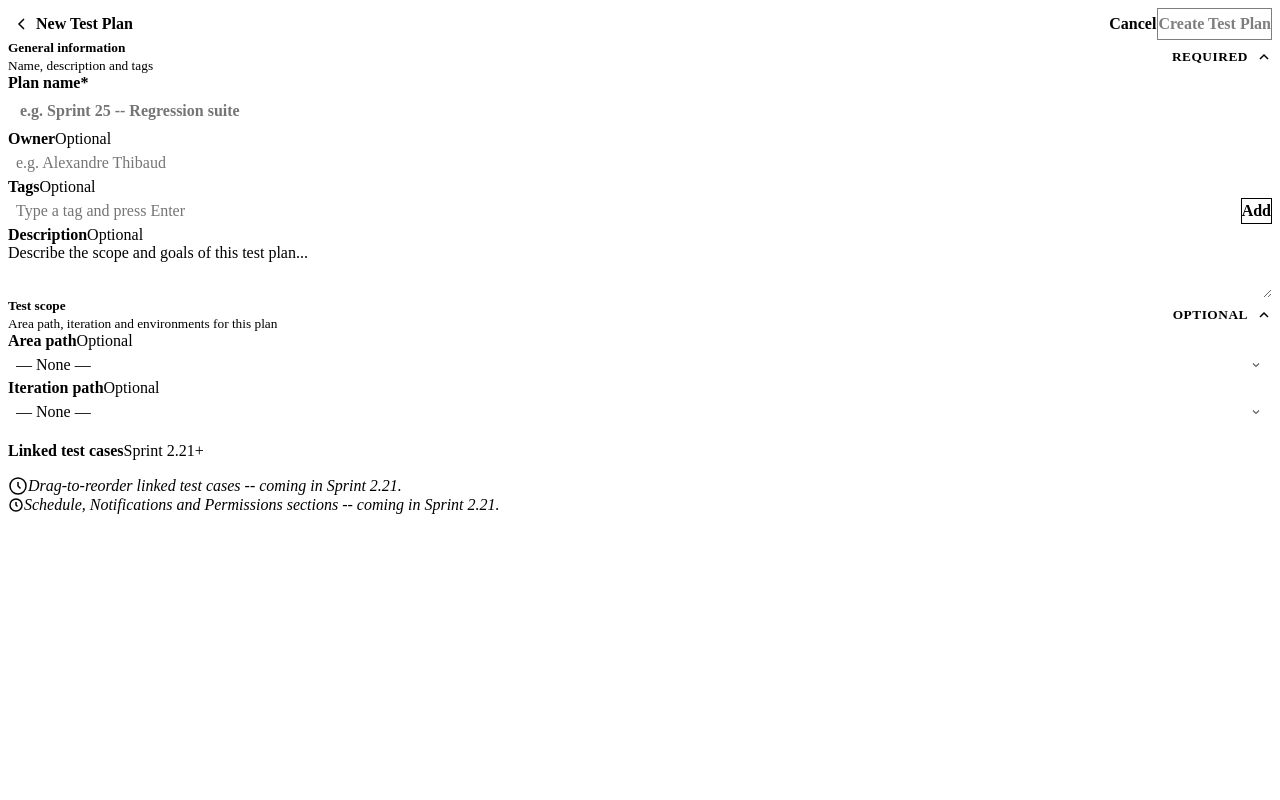
Test: TestPlanFormView (Sprint 2.18) › shows error toast on failed creation
Type "Fail Plan" into the field labelled "Plan name *".
click(640, 111); type("Fail Plan")  # box [8,92,1272,130]
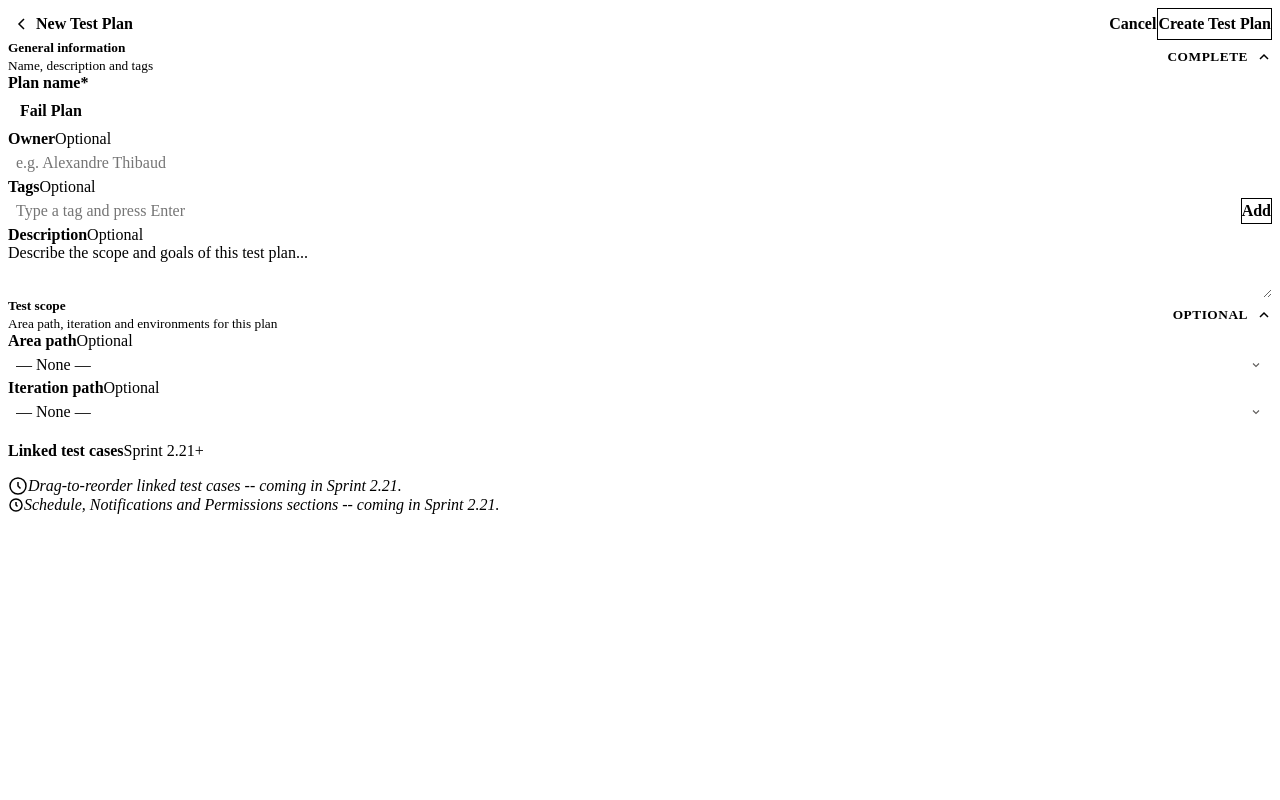
Click the button "Create Test Plan".
click(1215, 24)  # box [1157,8,1272,40]
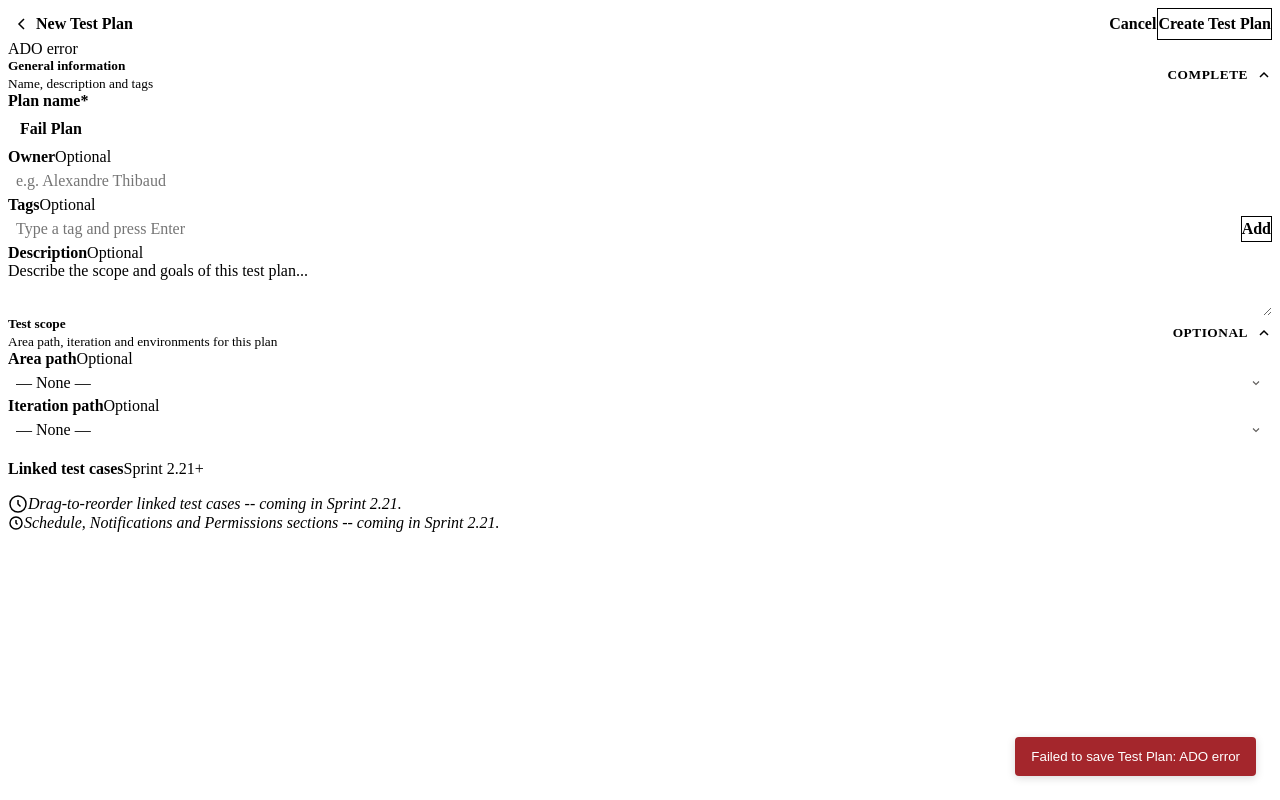
Now the button with test id "toast-error" is shown, box [1015,737,1256,776]
